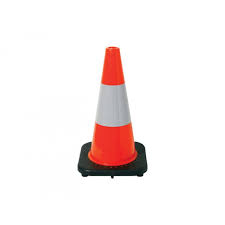cones: (75, 46, 151, 177)
